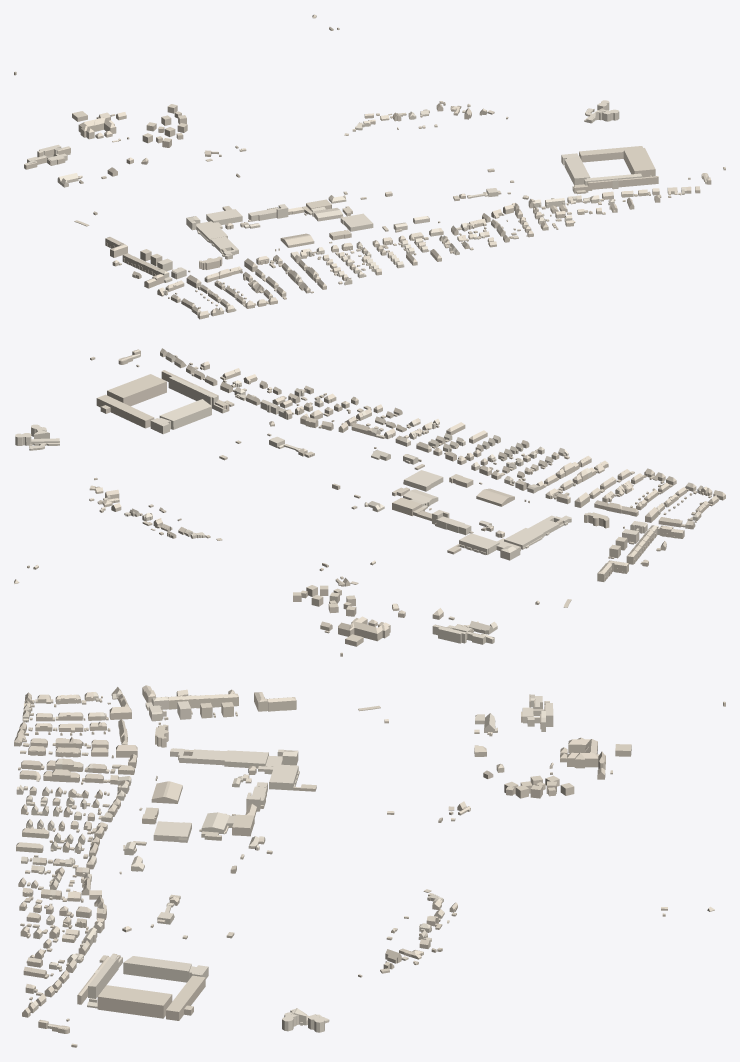
The picture shows the model from 3 angles, top to bottom: view 1: azimuth 30°, elevation 25°; view 2: azimuth 150°, elevation 25°; view 3: azimuth 270°, elevation 25°; orthographic projection. The views are drawn at different scales.
Size of the model in its own units: 1214 by 79.75 by 1016.
